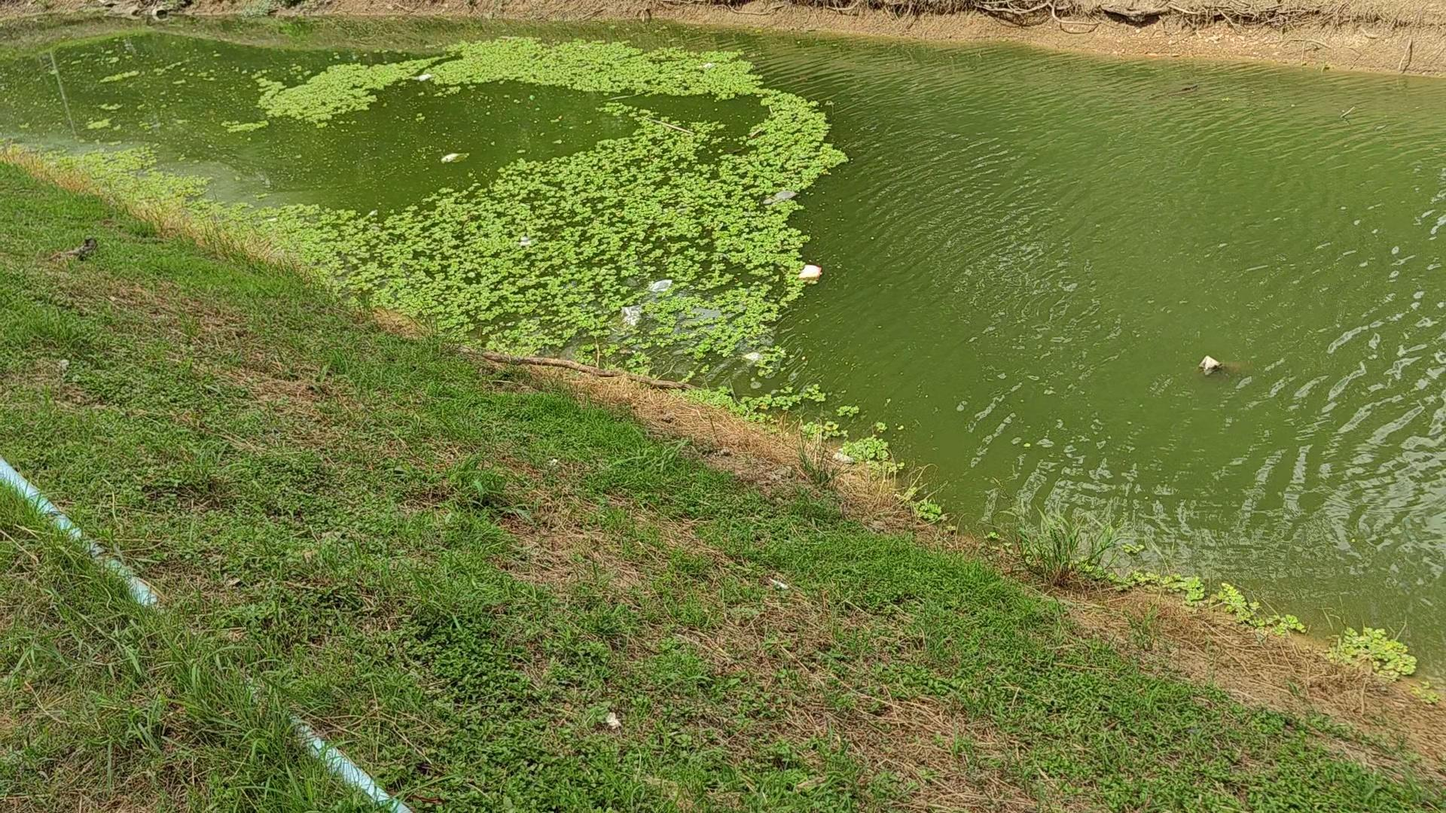trash: (764, 190, 796, 204), (621, 306, 642, 326), (1199, 355, 1222, 373), (799, 263, 822, 279), (649, 279, 672, 293), (441, 153, 465, 162), (743, 352, 761, 362), (416, 72, 432, 81), (520, 236, 532, 246), (702, 63, 715, 69), (368, 209, 377, 216)
